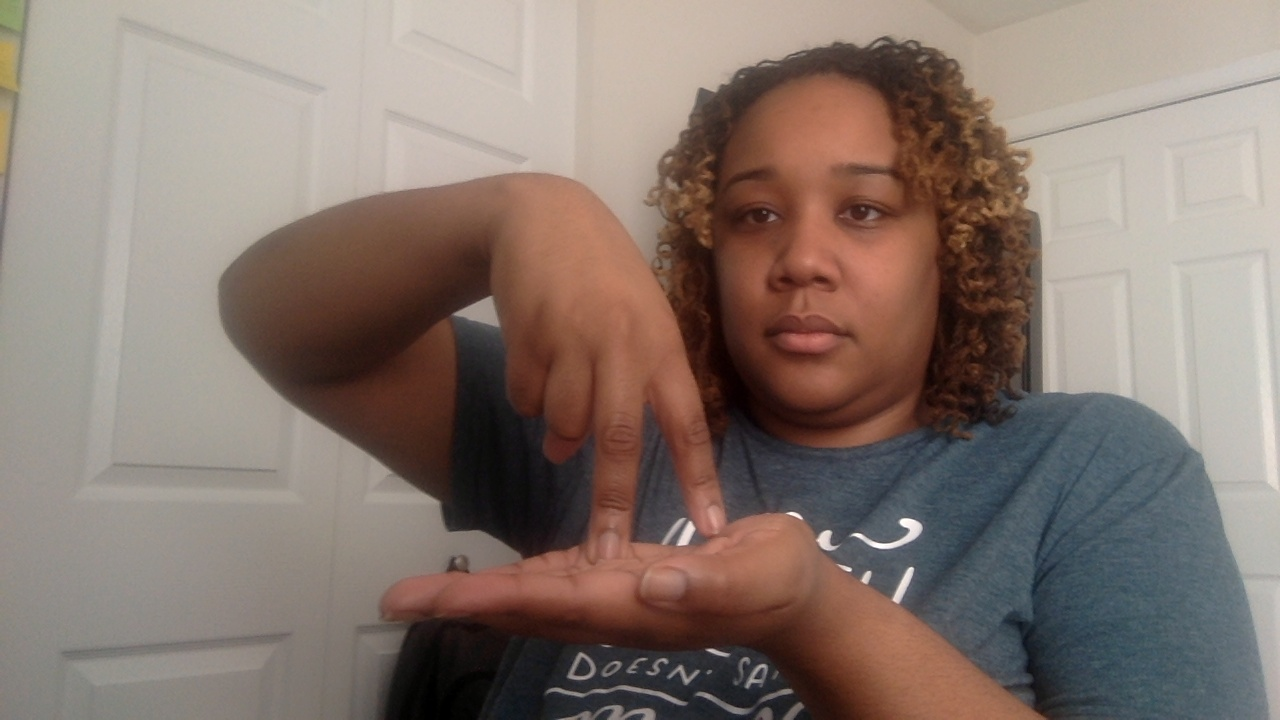fork: (216, 177, 816, 650)
